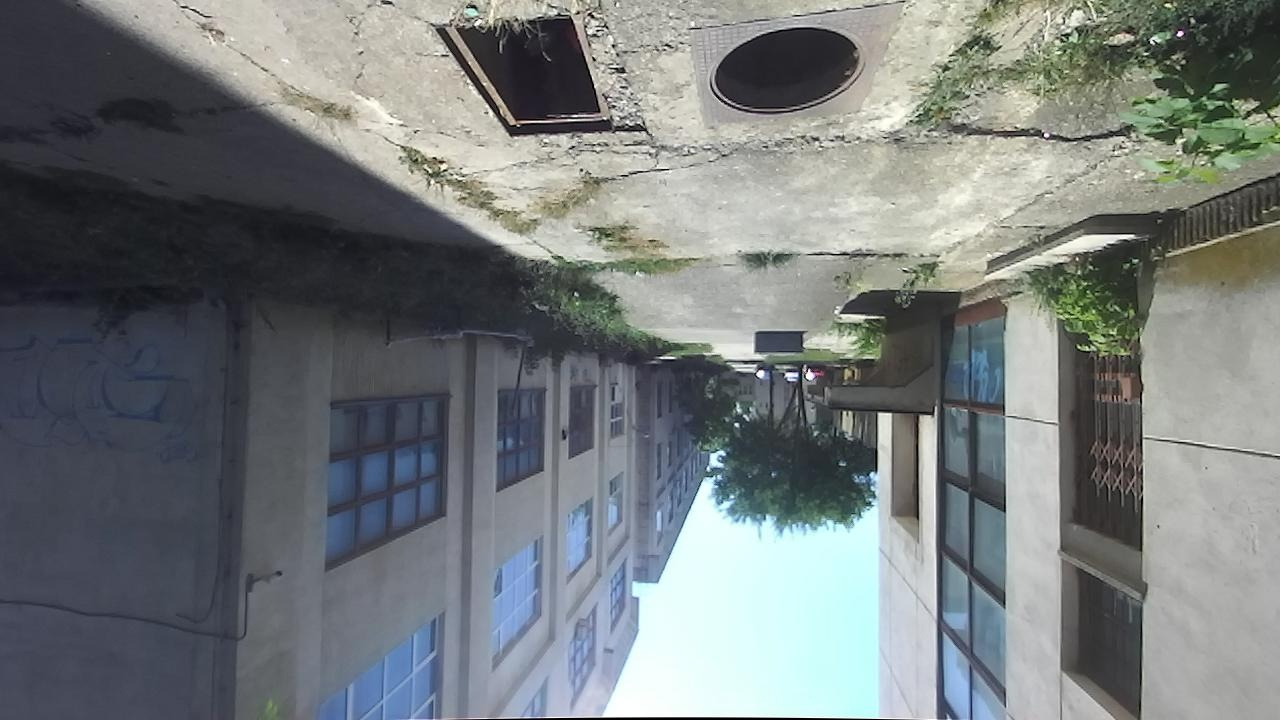drain: (420, 17, 613, 141), (703, 21, 868, 119)
